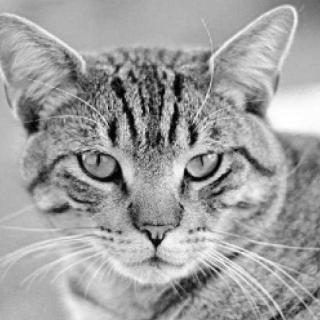cat: (0, 4, 304, 286)
nose: (121, 189, 193, 248)
